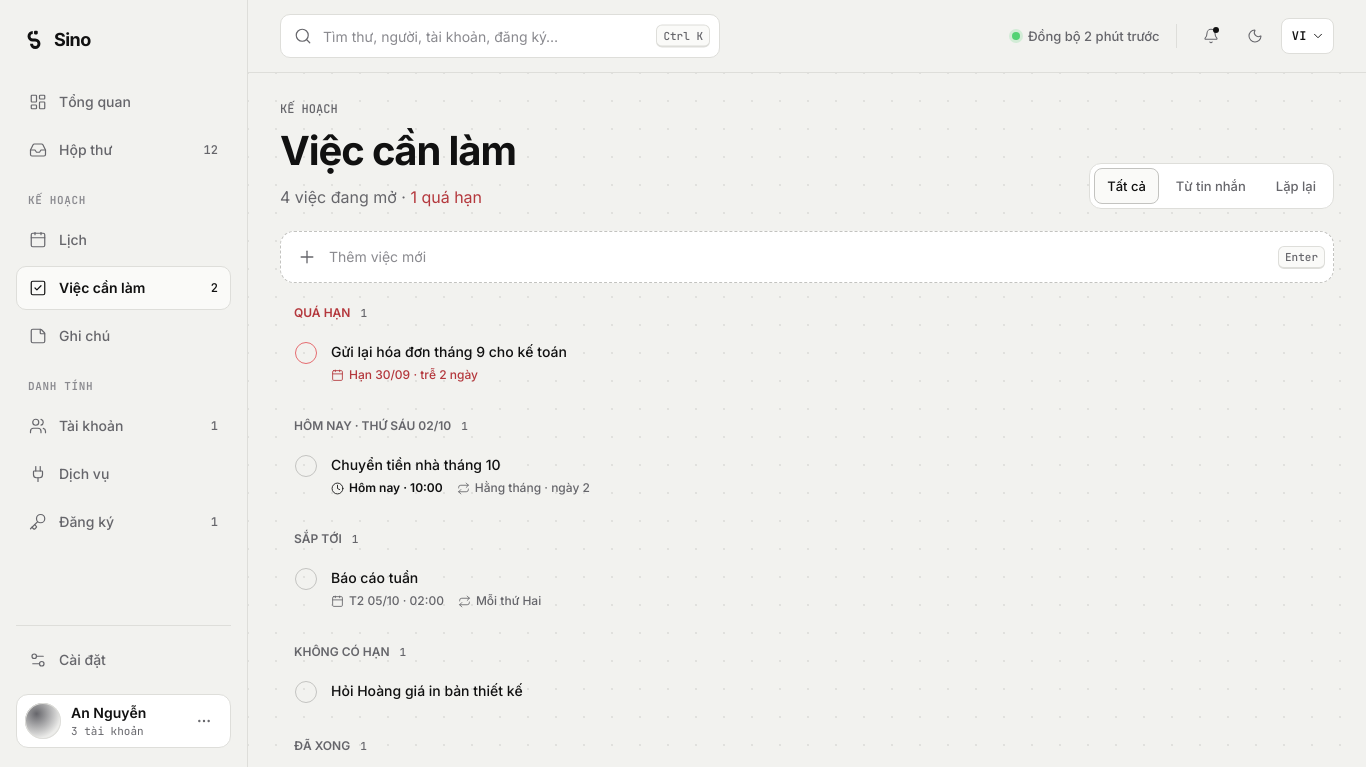
Test: Việc cần làm on the F16 API (FE-70) › gives the title back and says so when the server refuses a new task
The image size is (1366, 767).
Type "Gọi điện cho thợ sửa máy lạnh" into the field named "Thêm việc mới" at {"x": 798, "y": 257}, box [329,247,1266,267]
Then press Enter
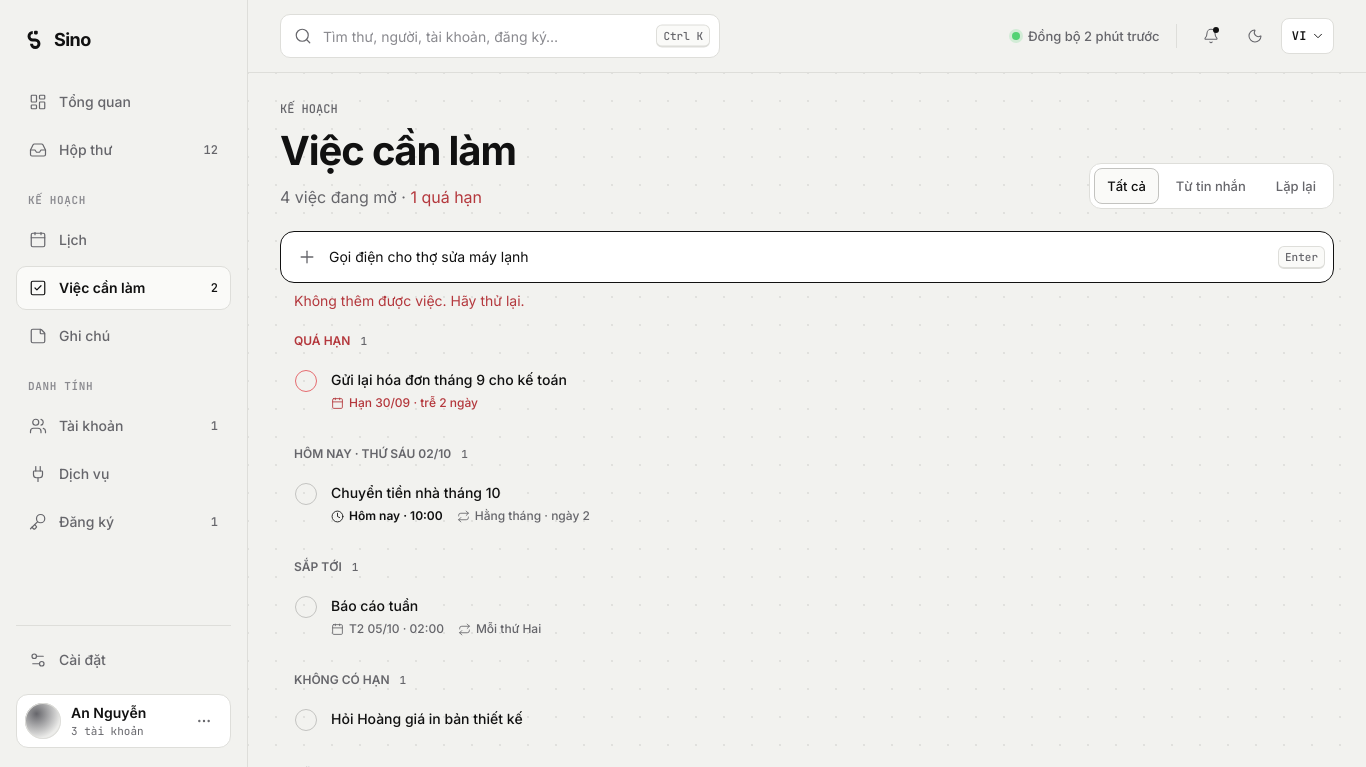
Result: the message reads "Không thêm được việc. Hãy thử lại." at [294,292,525,309]
